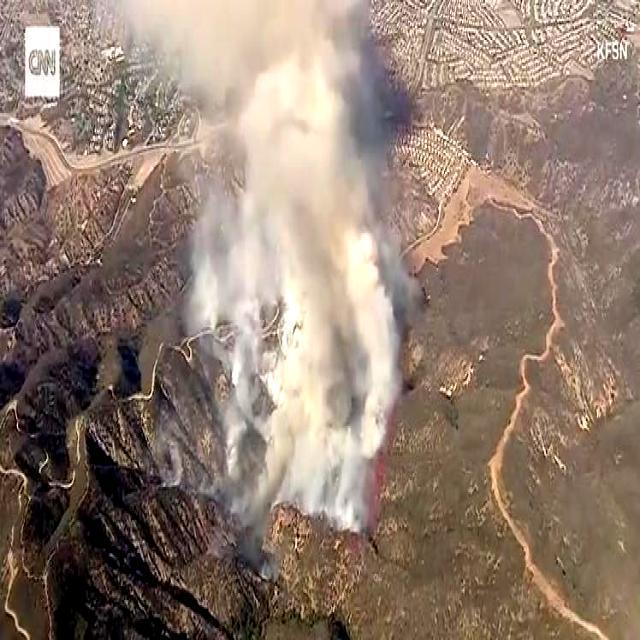Smoke: (161, 0, 417, 543)
